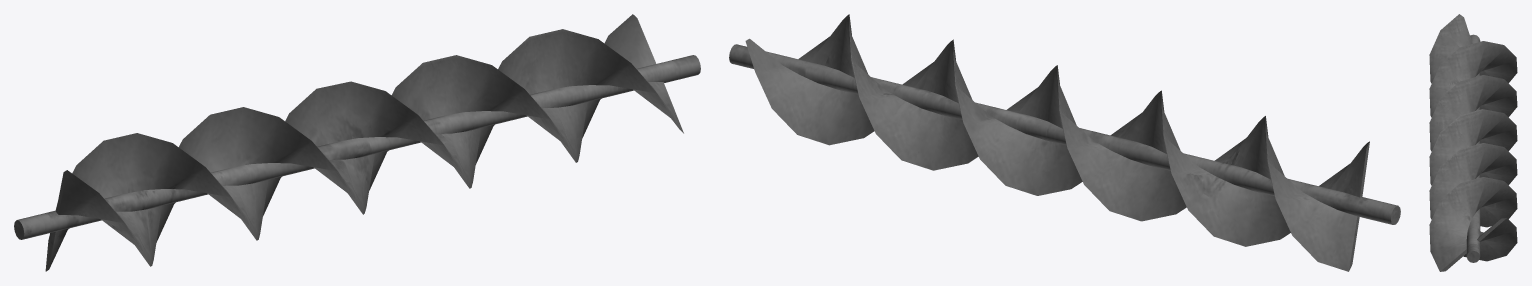
Rendered from PelletMill_FeederScrew_WithAnimClips.gltf.
3 renders of one model, left to right at view 1: azimuth 30°, elevation 25°; view 2: azimuth 150°, elevation 25°; view 3: azimuth 270°, elevation 25°, orthographic. The views are drawn at different scales.
Parts seen in each view (by area): view 1: FeederShaft001; view 2: FeederShaft001; view 3: FeederShaft001.
Part boxes in pixels (left/top/right/bottom): FeederShaft001: left=14, top=14, right=700, bottom=271; FeederShaft001: left=729, top=14, right=1400, bottom=271; FeederShaft001: left=1429, top=14, right=1517, bottom=271.
Bounding box in the file's own units: 0.9652 × 0.1662 × 0.1662.
1 material, 1 textured.
